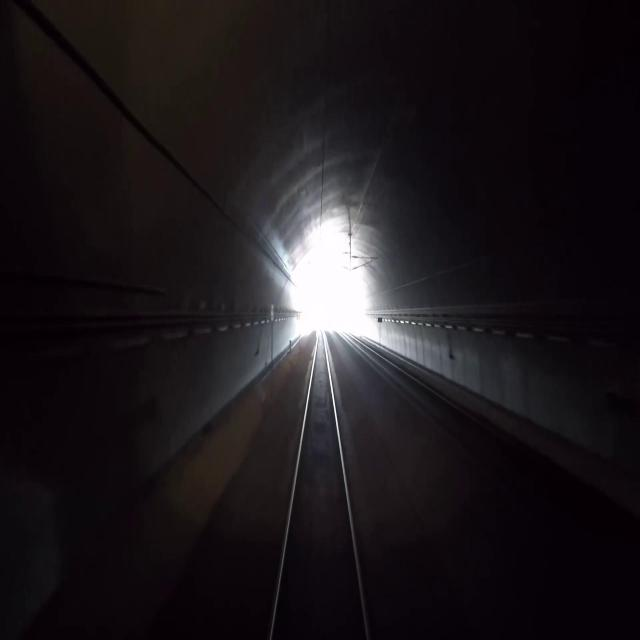rail-track: (273, 329, 365, 639)
